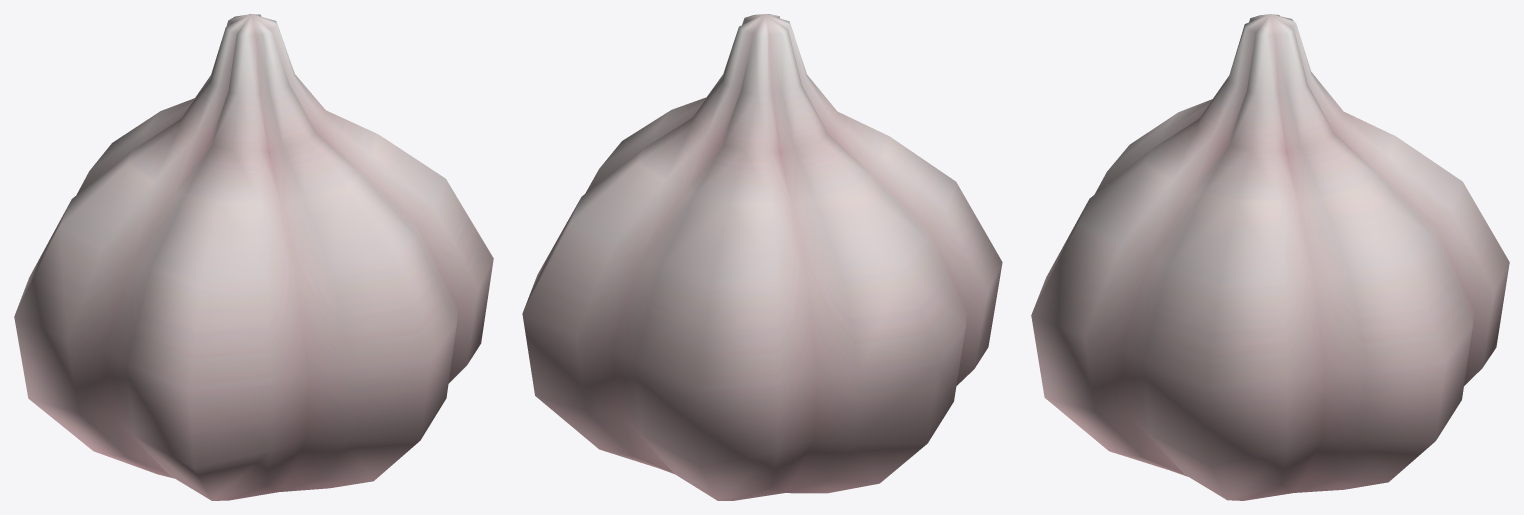
Rendered from garlic.glb.
3 views of the same model, side by side, from view 1: azimuth 30°, elevation 25°; view 2: azimuth 150°, elevation 25°; view 3: azimuth 270°, elevation 25° (orthographic).
Visible parts, largest first — view 1: SM_Garlic2; view 2: SM_Garlic2; view 3: SM_Garlic2.
Boxes of the visible parts, <box> form: SM_Garlic2: <box>14,14,493,500</box>; SM_Garlic2: <box>522,14,1002,500</box>; SM_Garlic2: <box>1031,14,1509,500</box>.
Bounding box in the file's own units: 0.2566 × 0.2647 × 0.2566.
1 material, 1 textured.
